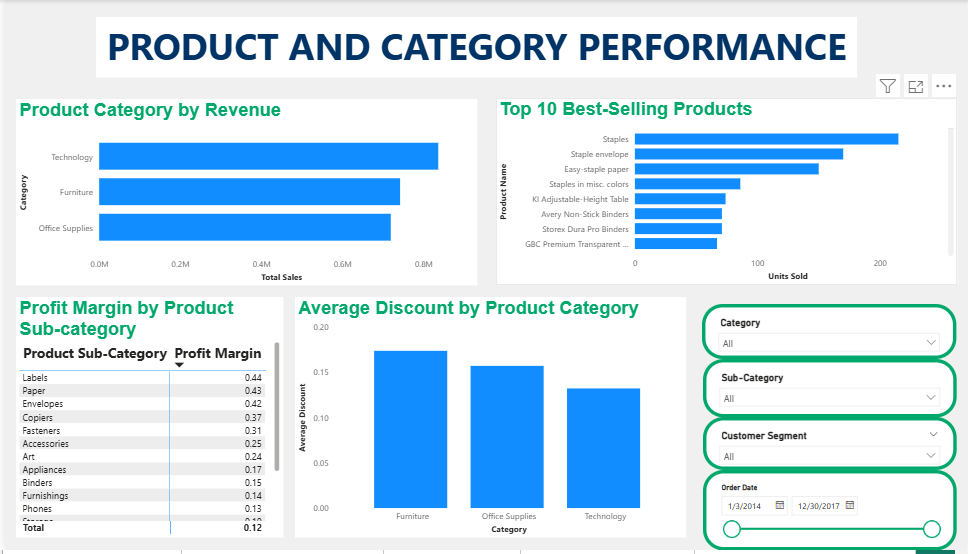

The page's visual inventory and layout, read from the dashboard file:
{"tool":"powerbi","page":{"name":"Product & Category Performance","canvas":[1400,800],"ordinal":4},"visuals":[{"type":"textbox","box":[132.3,25.2,1107.1,88.2],"z":0},{"type":"clusteredBarChart","title":"Product Category by Revenue","fields":{"Category":["Products.Category"],"Y":["Orders.Total Sales"]},"box":[15.7,143.3,670.9,270.9],"z":1000},{"type":"clusteredBarChart","title":"Top 10 Best-Selling Products","fields":{"Category":["Products.Product Name"],"Y":["Orders.Units Sold"]},"box":[713.7,142.7,670.7,271.8],"z":2000},{"type":"pivotTable","title":"Profit Margin by Product Sub-category","fields":{"Rows":["Products.Sub-Category"],"Values":["States.Profit Margin by State"]},"box":[15.6,432.1,389.1,350],"z":3000},{"type":"clusteredColumnChart","title":"Average Discount by Product Category","fields":{"Category":["Products.Category"],"Y":["Orders.Average Discount"]},"box":[422.3,432.1,569,350],"z":4000},{"type":"slicer","fields":{"Values":["Products.Category"]},"box":[1014.2,442.5,370.1,80.3],"z":5000},{"type":"slicer","fields":{"Values":["Products.Sub-Category"]},"box":[1015.7,522.8,368.5,85],"z":6000},{"type":"slicer","fields":{"Values":["Customers.Customer Segment"]},"box":[1015.7,606.3,368.5,77.2],"z":7000},{"type":"slicer","fields":{"Values":["Orders.Order Date"]},"box":[1015.7,683.5,368.5,116.5],"z":8000}]}

Visuals, with their boxes in screenshot pixels (x1, y1, x2, y2), scaled from the page's 1400x800 canvas onto the 968x554 screenshot:
textbox: 91:17:857:79
"Product Category by Revenue" clusteredBarChart: 11:99:475:287
"Top 10 Best-Selling Products" clusteredBarChart: 493:99:957:287
"Profit Margin by Product Sub-category" pivotTable: 11:299:280:542
"Average Discount by Product Category" clusteredColumnChart: 292:299:685:542
slicer - Products.Category: 701:306:957:362
slicer - Products.Sub-Category: 702:362:957:421
slicer - Customers.Customer Segment: 702:420:957:473
slicer - Orders.Order Date: 702:473:957:553
